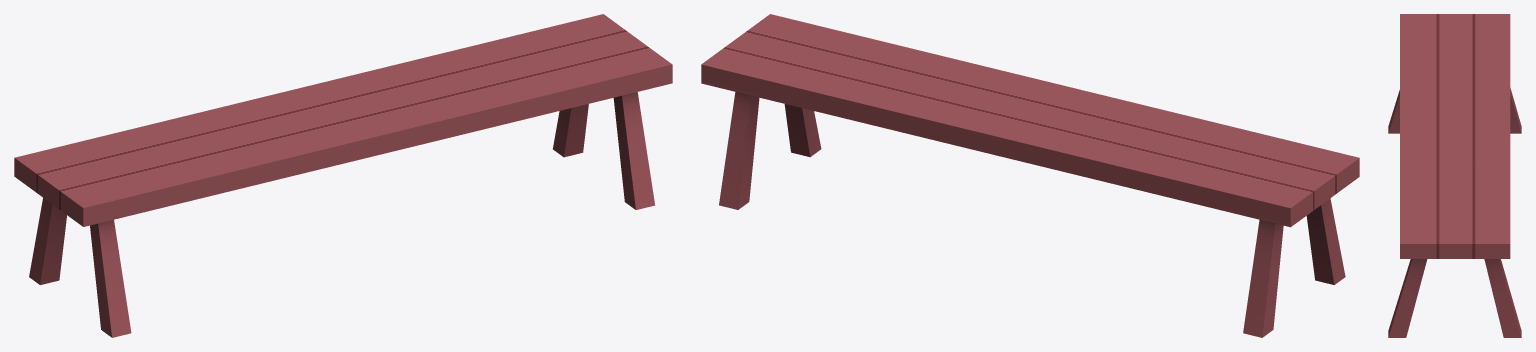
The model's file is kitchen_bench.glb.
The picture shows the model from 3 angles, left to right: view 1: azimuth 30°, elevation 25°; view 2: azimuth 150°, elevation 25°; view 3: azimuth 270°, elevation 25°; orthographic projection. The views are drawn at different scales.
Visible parts, largest first — view 1: fc_k_bench.smd; view 2: fc_k_bench.smd; view 3: fc_k_bench.smd.
Boxes of the visible parts, bbox=[...] form: fc_k_bench.smd: bbox=[14, 14, 672, 337]; fc_k_bench.smd: bbox=[701, 14, 1359, 337]; fc_k_bench.smd: bbox=[1388, 14, 1521, 337].
Size of the model in its own units: 1.68 by 0.3533 by 0.4109.
Materials: 1 (1 with a texture image).
